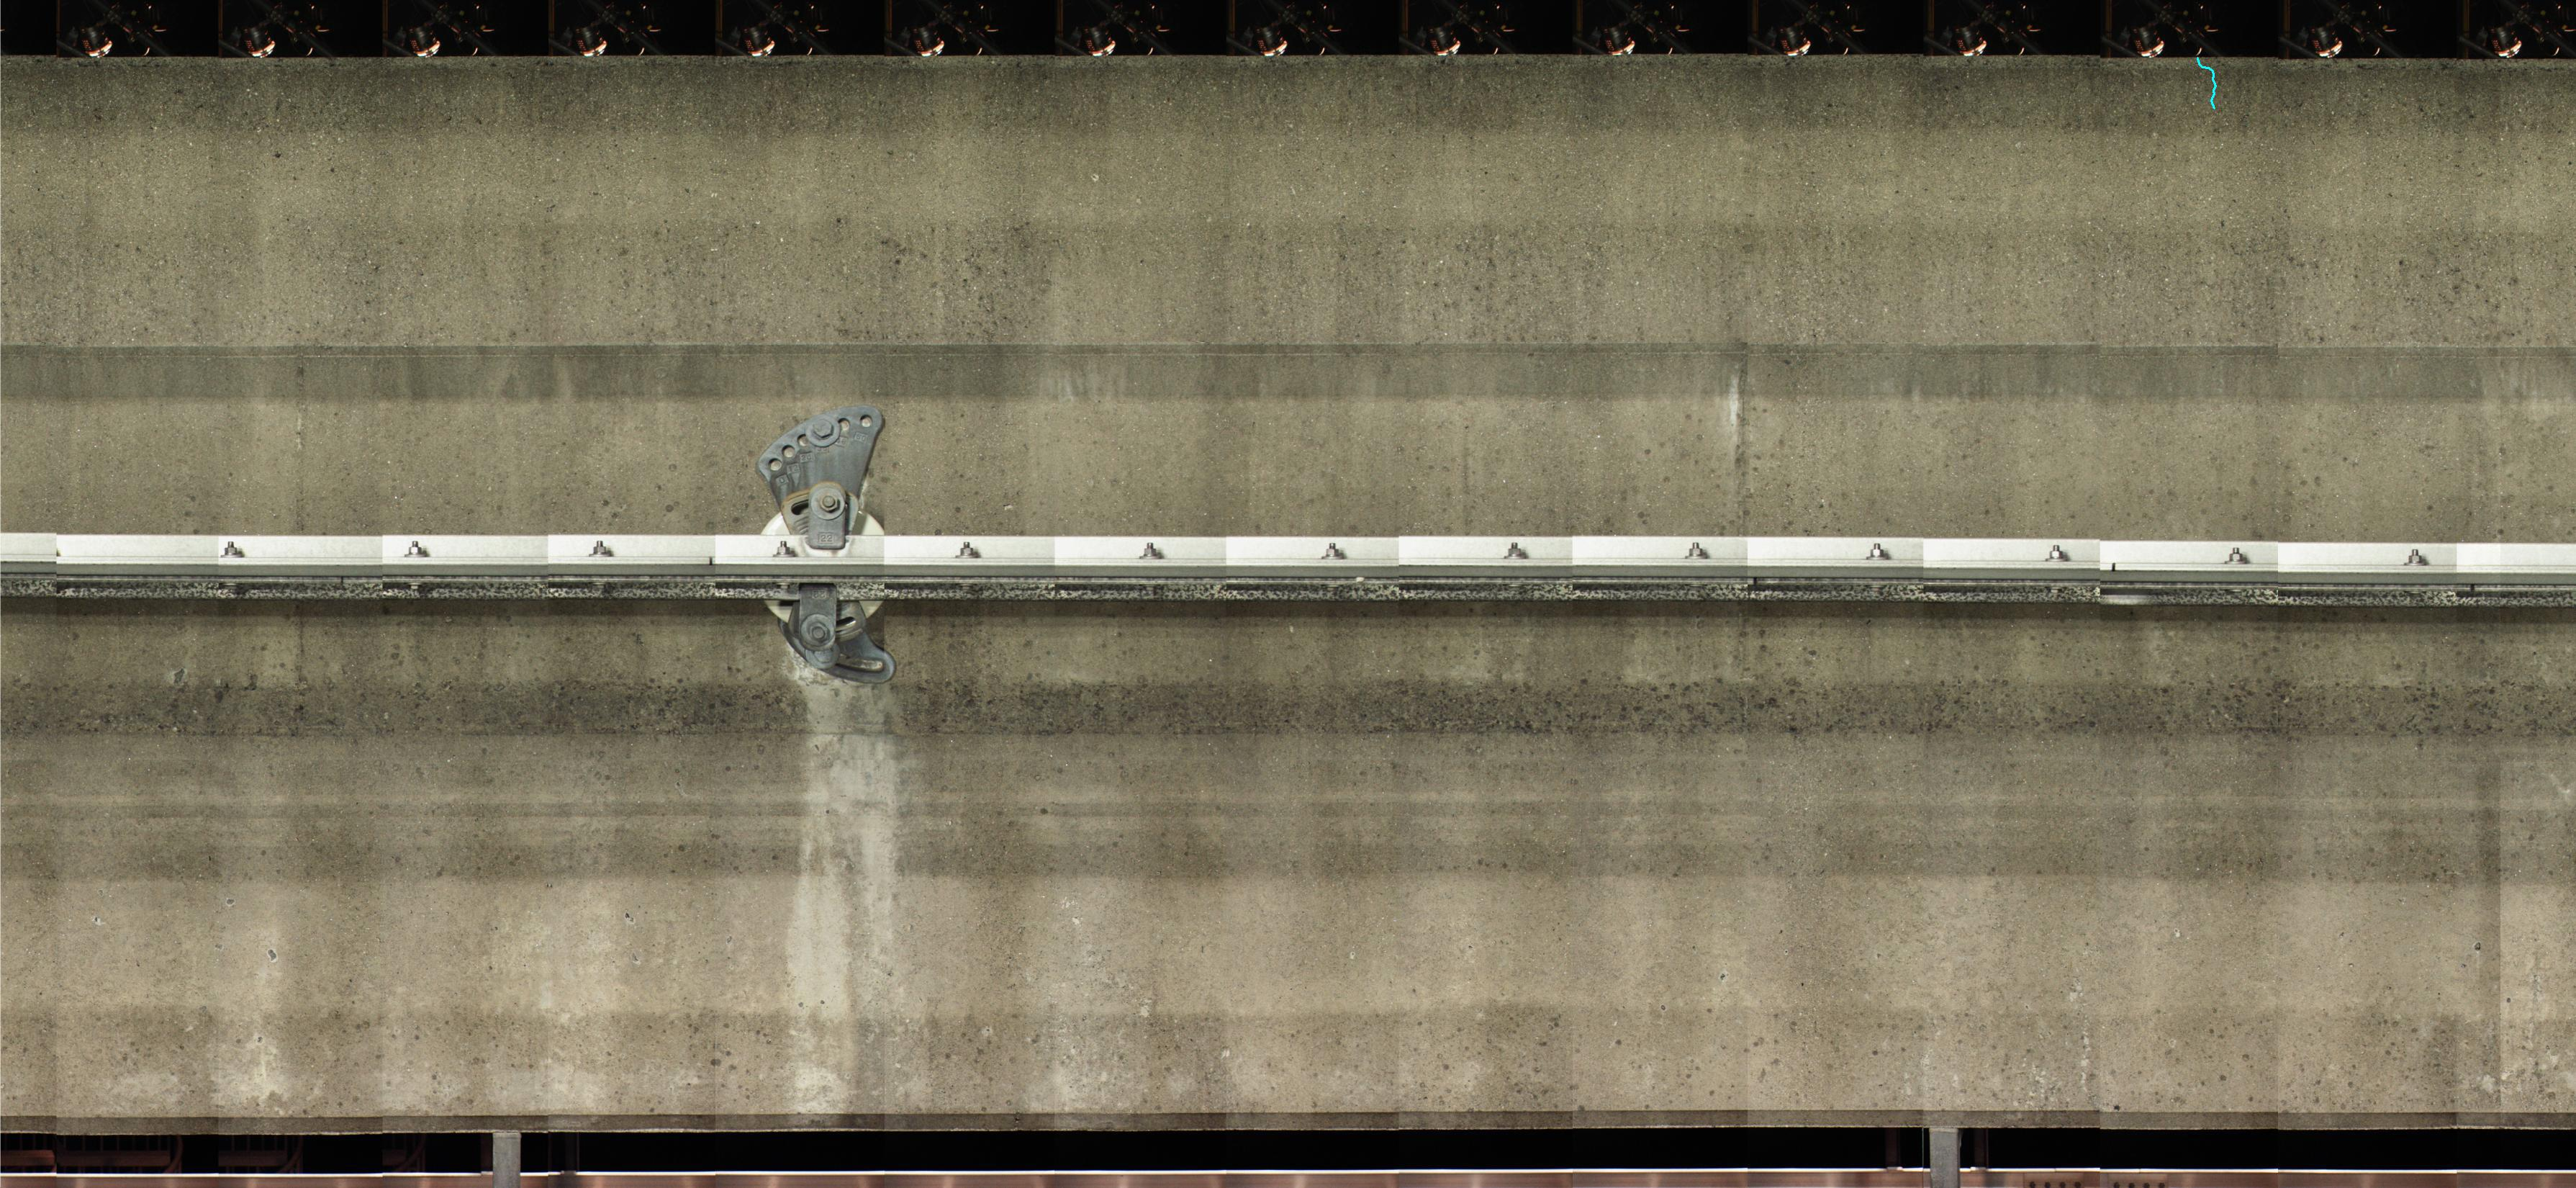concrete: (7, 595, 2574, 1129), (2, 61, 2569, 547)
